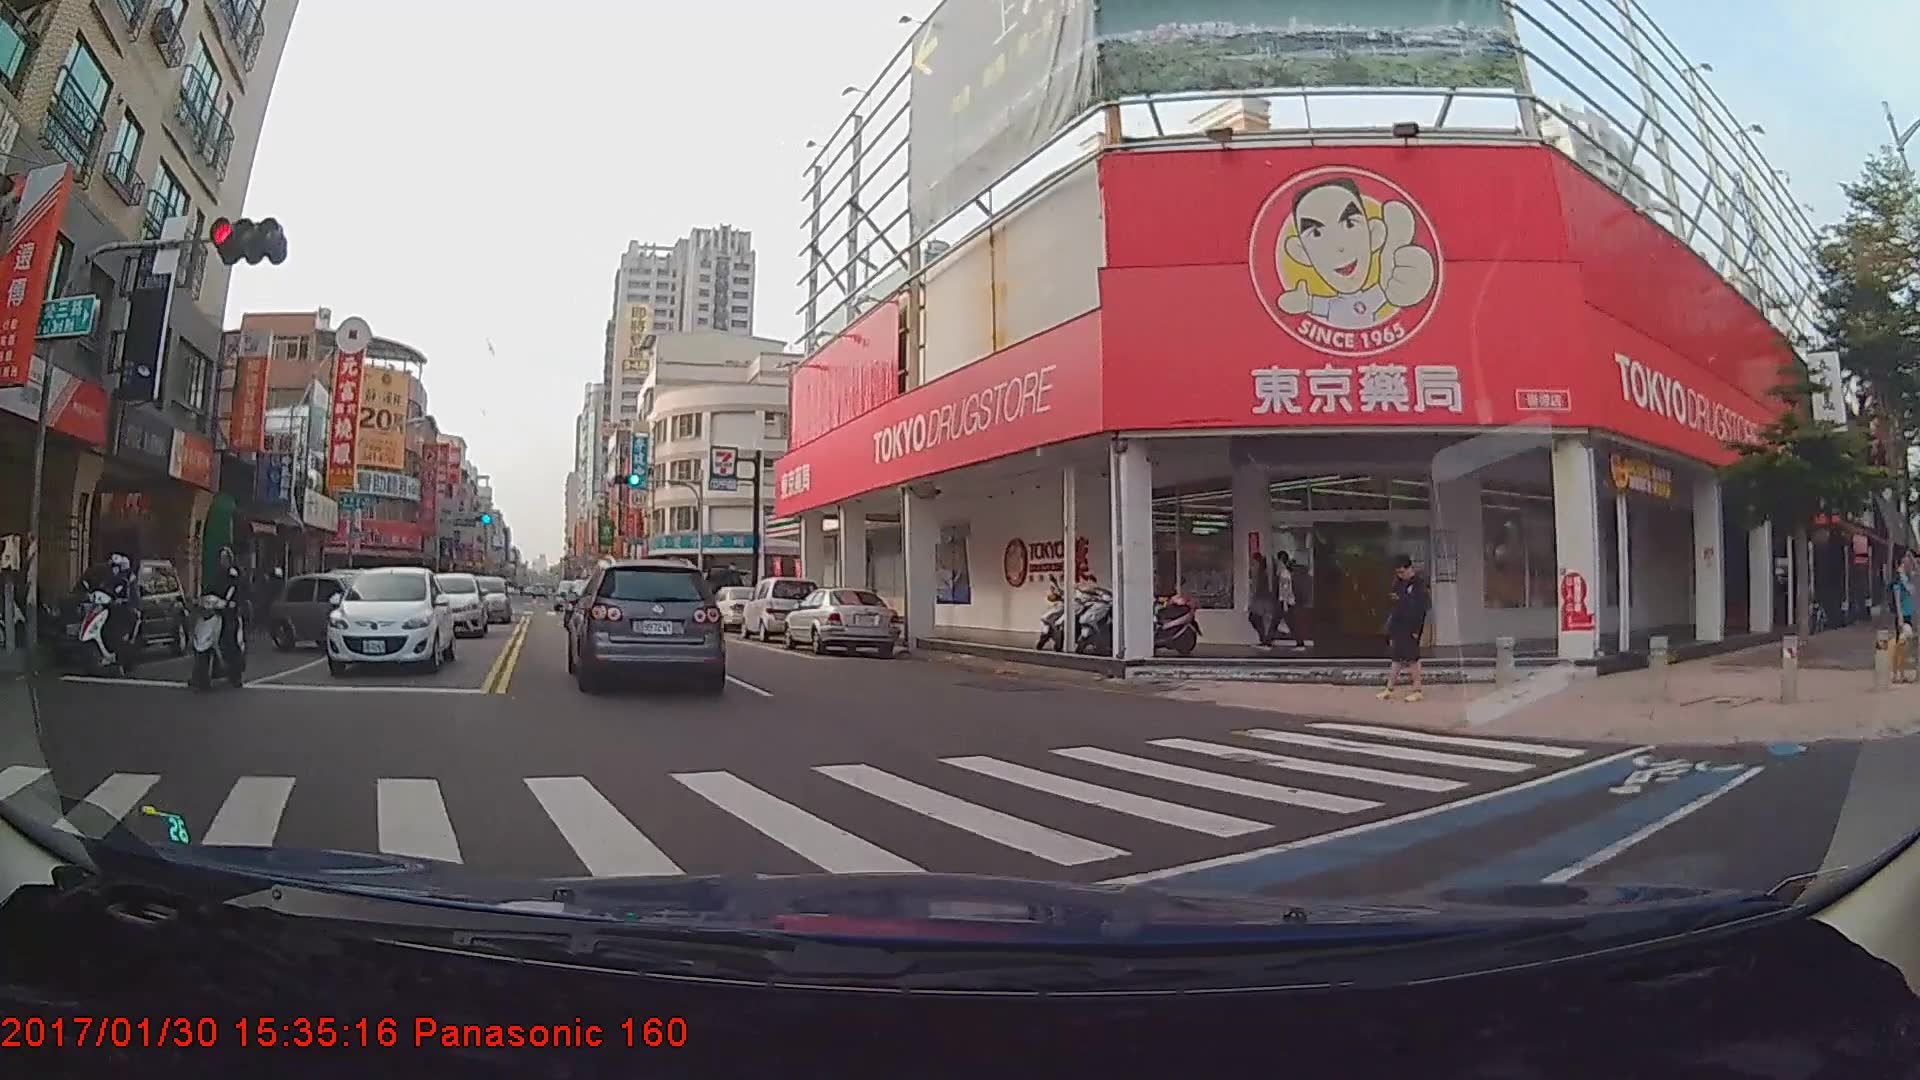pedestrian: (1383, 546, 1433, 701), (1886, 541, 1920, 687), (1246, 548, 1283, 652), (1269, 552, 1302, 647)
rider: (66, 555, 159, 677), (185, 548, 257, 696)
vehicle: (572, 561, 722, 691), (47, 556, 190, 667), (326, 565, 454, 674), (268, 569, 398, 651), (784, 584, 900, 657), (740, 577, 820, 642), (416, 571, 487, 637), (696, 583, 769, 629), (463, 574, 512, 623)
